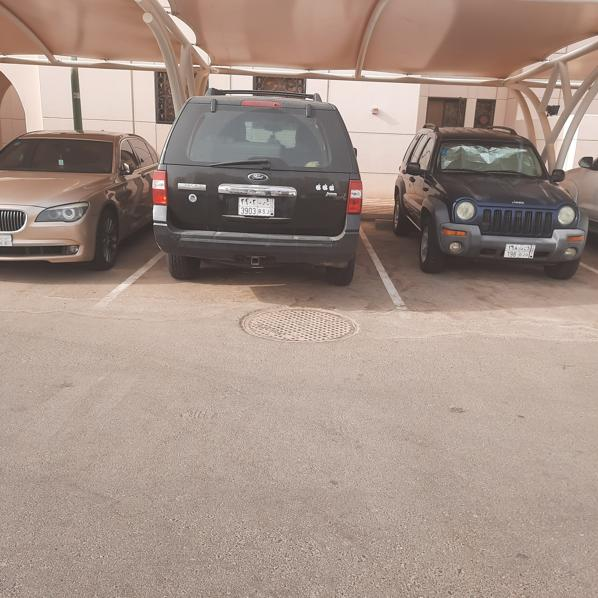numberplate: (238, 196, 274, 216)
